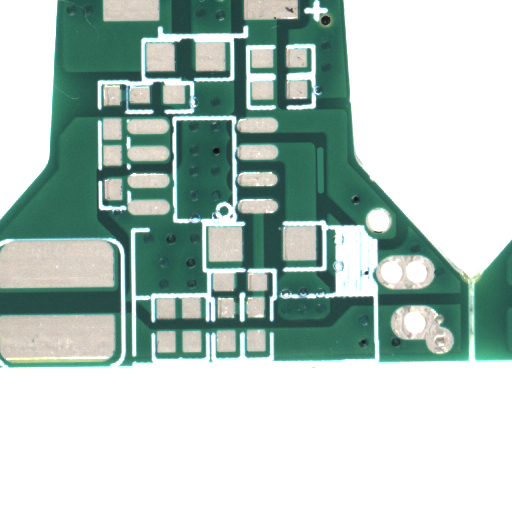Spurious_copper: (320, 169, 329, 218)
